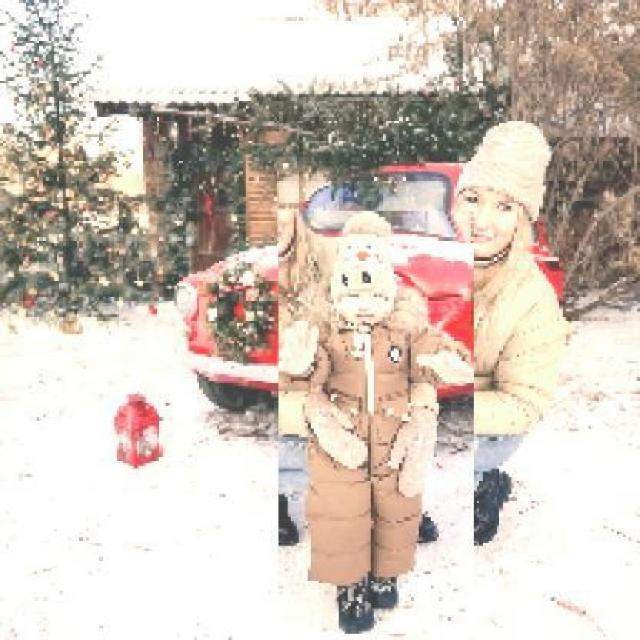child: (277, 211, 474, 635)
